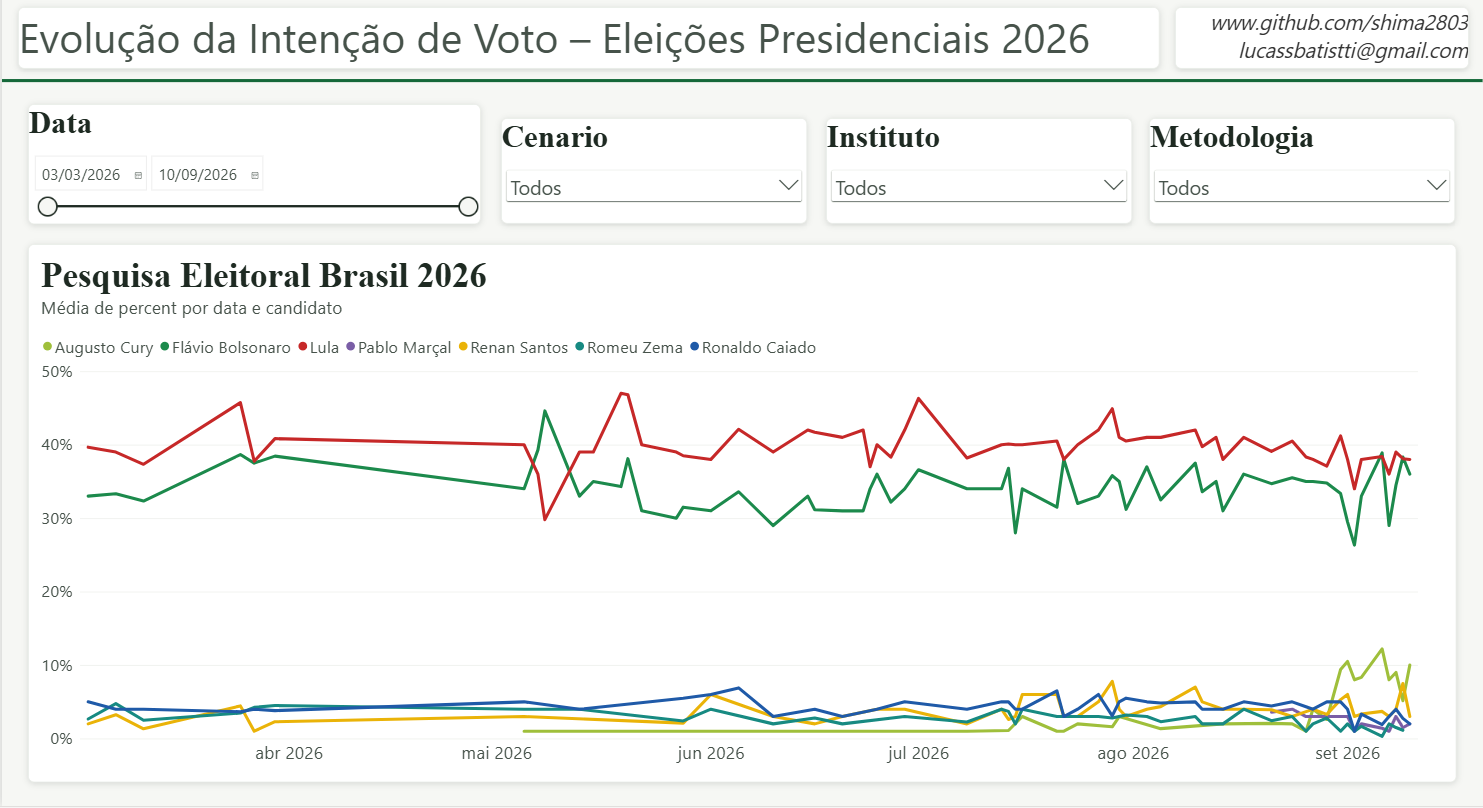

This screenshot's page, from the dashboard's own definition file:
{"tool":"powerbi","page":{"name":"Main Data","canvas":[1920,1080],"ordinal":0},"visuals":[{"type":"lineChart","title":"Pesquisa Eleitoral Brasil 2026","fields":{"Category":["main.poll_date"],"Series":["main.candidate"],"Y":["Avg(main.percent)"]},"box":[33.1,351.5,1851.5,697.5],"z":0},{"type":"slicer","title":"Cenario","fields":{"Values":["main.scenario"]},"box":[646.3,187.6,397.4,137.4],"z":1000},{"type":"slicer","title":"Data","fields":{"Values":["main.poll_date"]},"box":[33.1,169.3,587.1,156.4],"z":2000},{"type":"shape","box":[0,113.3,1919.6,53.4],"z":3000},{"type":"textbox","box":[20.4,44.6,1480.2,79.9],"z":4000},{"type":"textbox","box":[1521.1,44.6,380.7,79.9],"z":5000},{"type":"slicer","title":"Instituto","fields":{"Values":["main.institute"]},"box":[1067.9,187.6,397.4,137.4],"z":6000},{"type":"slicer","title":"Metodologia","fields":{"Values":["main.method"]},"box":[1487.6,187.6,397.4,137.4],"z":7000}]}

Visuals, with their boxes on the page's 1920x1080 design canvas (x1, y1, x2, y2). These are canvas units, not pixel positions in the 1483x808 screenshot, which may show the page scaled, cropped or inside an application window:
"Pesquisa Eleitoral Brasil 2026" lineChart: (33,352,1885,1049)
"Cenario" slicer: (646,188,1044,325)
"Data" slicer: (33,169,620,326)
shape: (0,113,1920,167)
textbox: (20,45,1501,124)
textbox: (1521,45,1902,124)
"Instituto" slicer: (1068,188,1465,325)
"Metodologia" slicer: (1488,188,1885,325)
